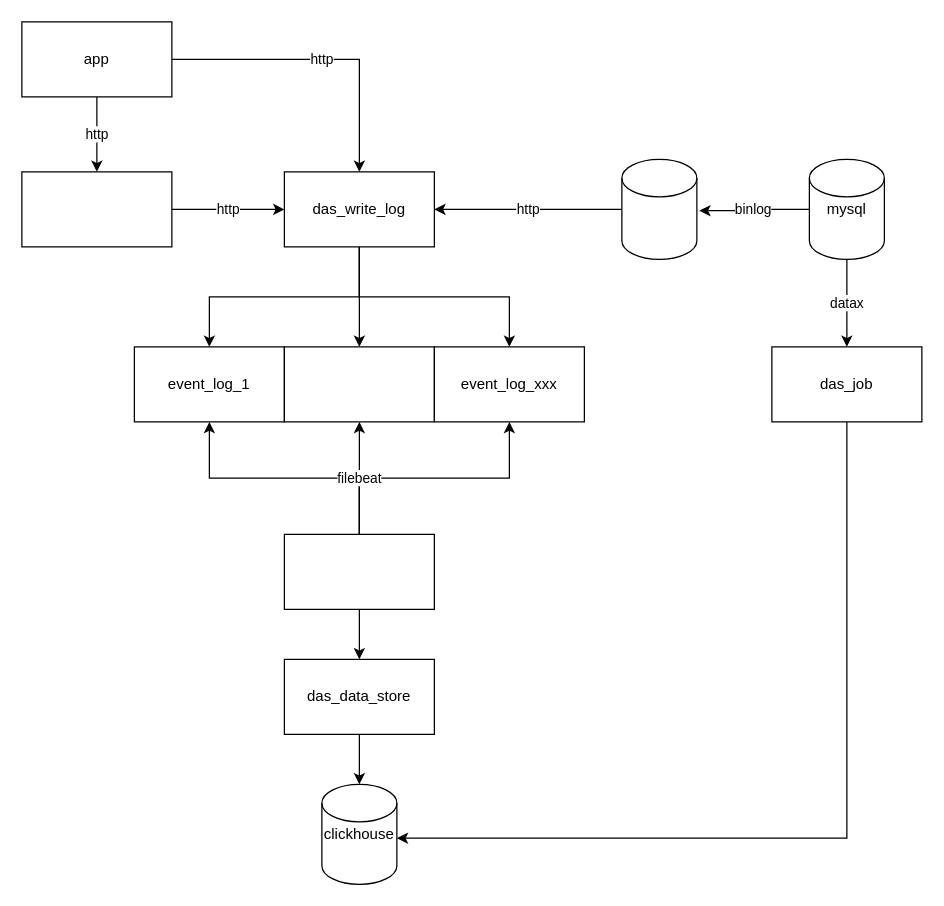
The diagram is 944 pixels wide and 906 high, and some of its shapes have lost their labels. The shapes that lost their labels are listed below. From the top down, each one's centre as x and y in pixels, then its label:
point 96,209: backend service
point 659,208: canal
point 358,384: event_log_2
point 358,571: kafka
